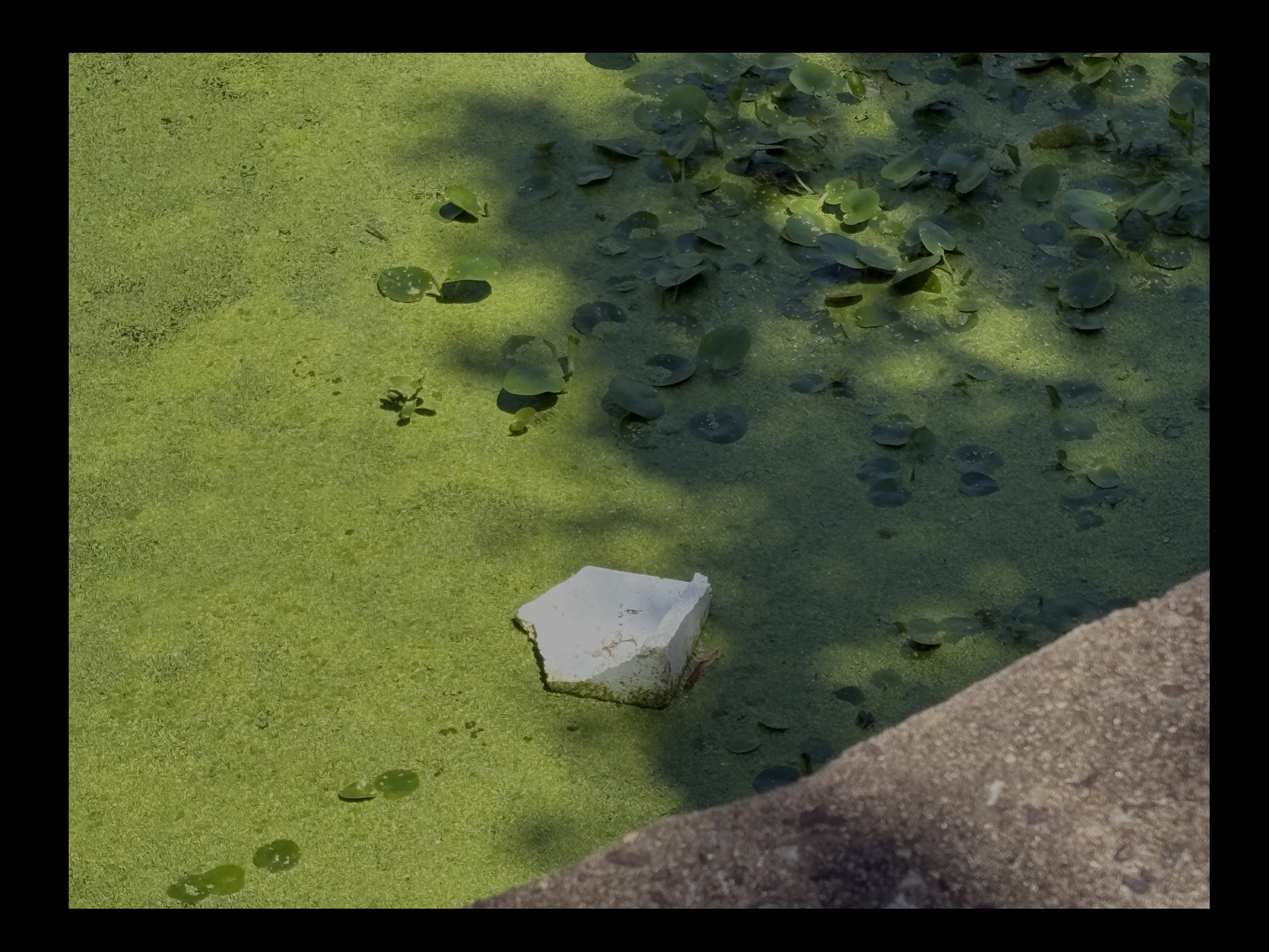Plastic wastes: (517, 569, 713, 706)
